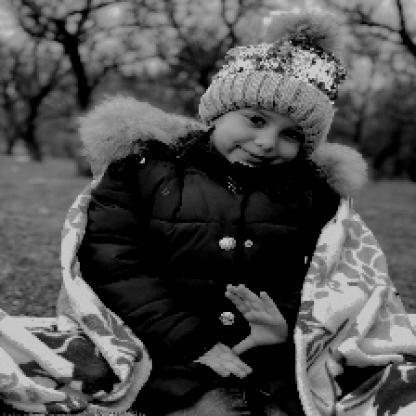child: (77, 10, 350, 415)
